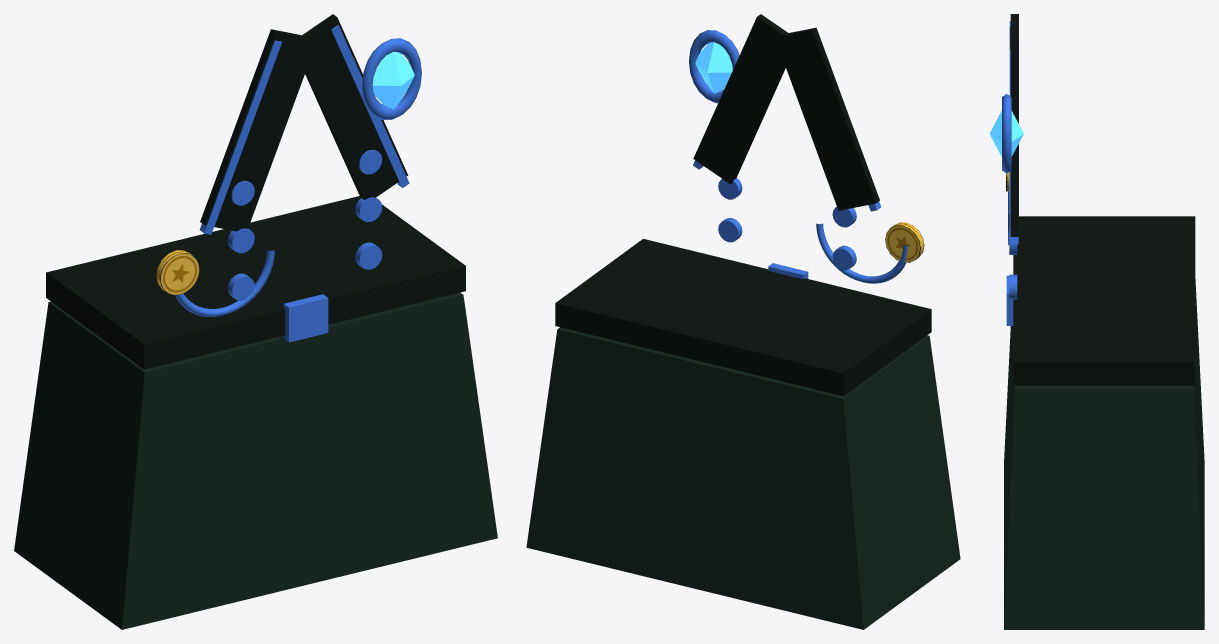
File: eqf_eqtz1.glb
3 renders of one model, left to right at view 1: azimuth 30°, elevation 25°; view 2: azimuth 150°, elevation 25°; view 3: azimuth 270°, elevation 25°, orthographic. The views are drawn at different scales.
Bounding box in the file's own units: 2.48 × 3.51 × 1.32.
Materials: 6 (1 with a texture image).
